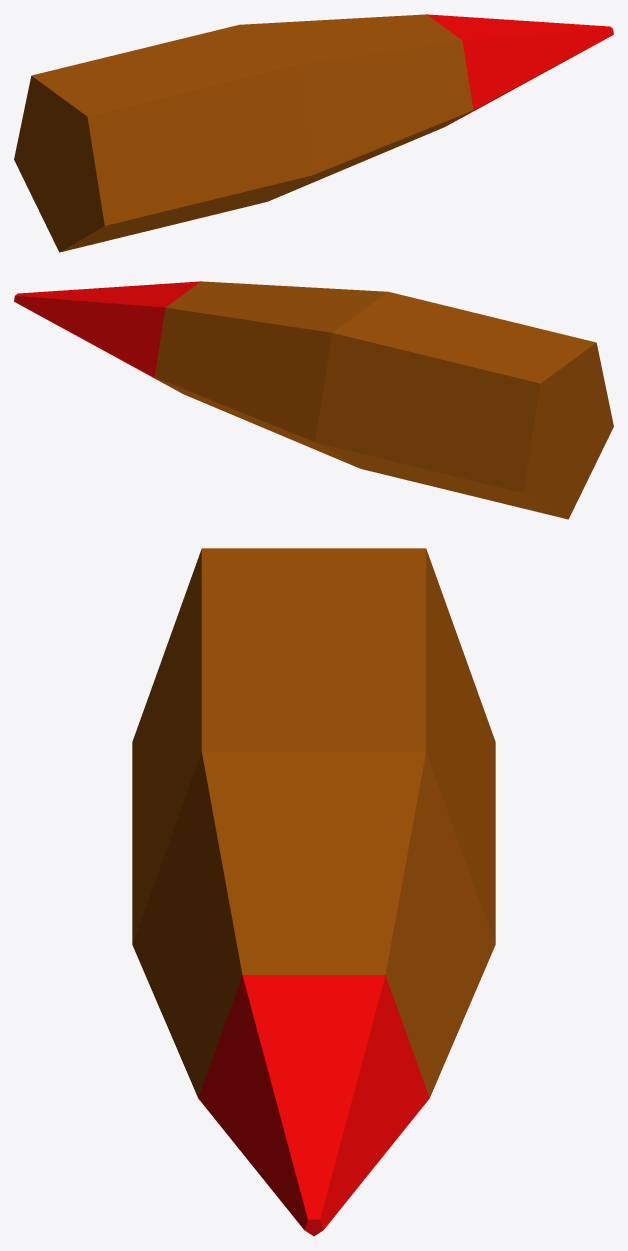
File: Musket bullet red.FBX
3 views of the same model, one above another, from view 1: azimuth 30°, elevation 25°; view 2: azimuth 150°, elevation 25°; view 3: azimuth 270°, elevation 25° (orthographic). The views are drawn at different scales.
Visible parts, largest first — view 1: Musket bullet, Musket byllet tip; view 2: Musket bullet, Musket byllet tip; view 3: Musket bullet, Musket byllet tip.
Boxes of the visible parts, x1,y1,x2,y2 form: Musket bullet: (14,14,473,252); Musket byllet tip: (427,14,613,123); Musket bullet: (154,281,613,519); Musket byllet tip: (14,281,200,390); Musket bullet: (132,548,495,1097); Musket byllet tip: (198,975,429,1236).
Size of the model in its own units: 16.4 by 4.44 by 4.67.
